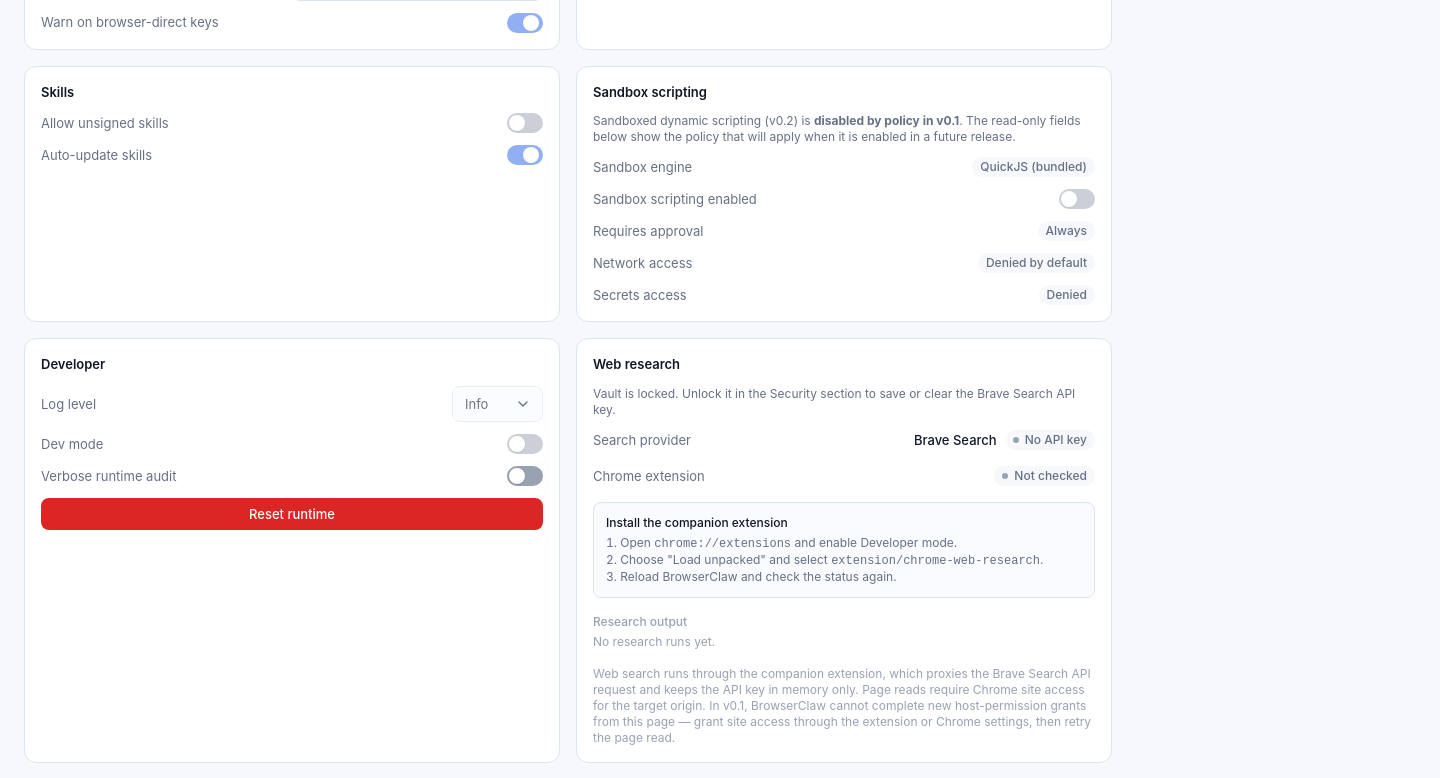
it: SettingsScreen › resets the runtime (a real action)
(page scrolled)
Click the button "Reset runtime" at (292, 514), box [41,498,543,530]
(page scrolled)
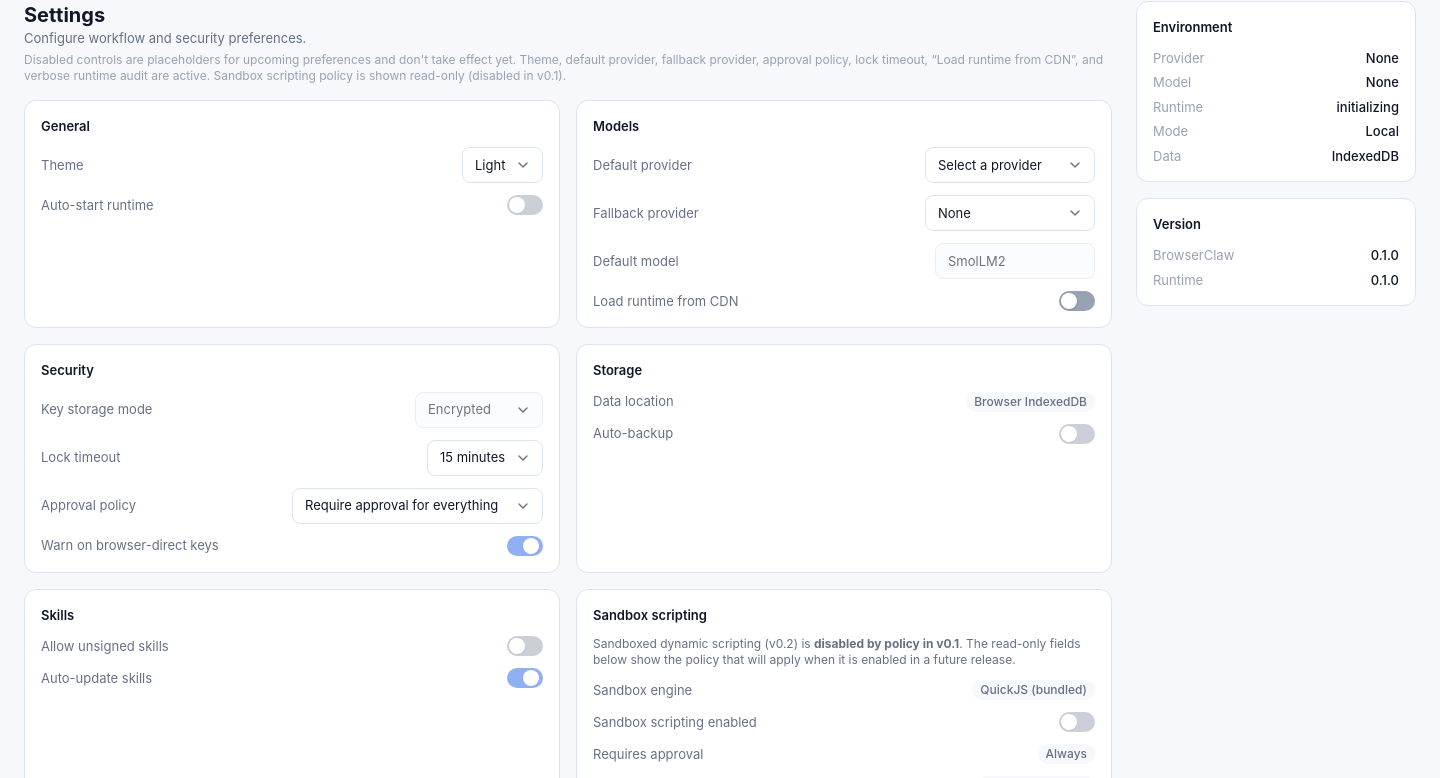
Now the text "initializing" is shown, box [1337,98,1399,116]
